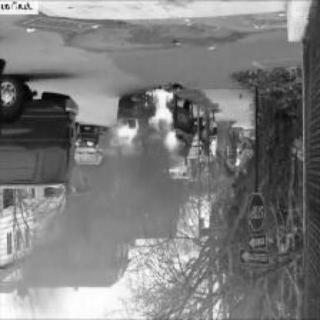Fire: (109, 87, 183, 161)
Smoke: (17, 165, 183, 303)
